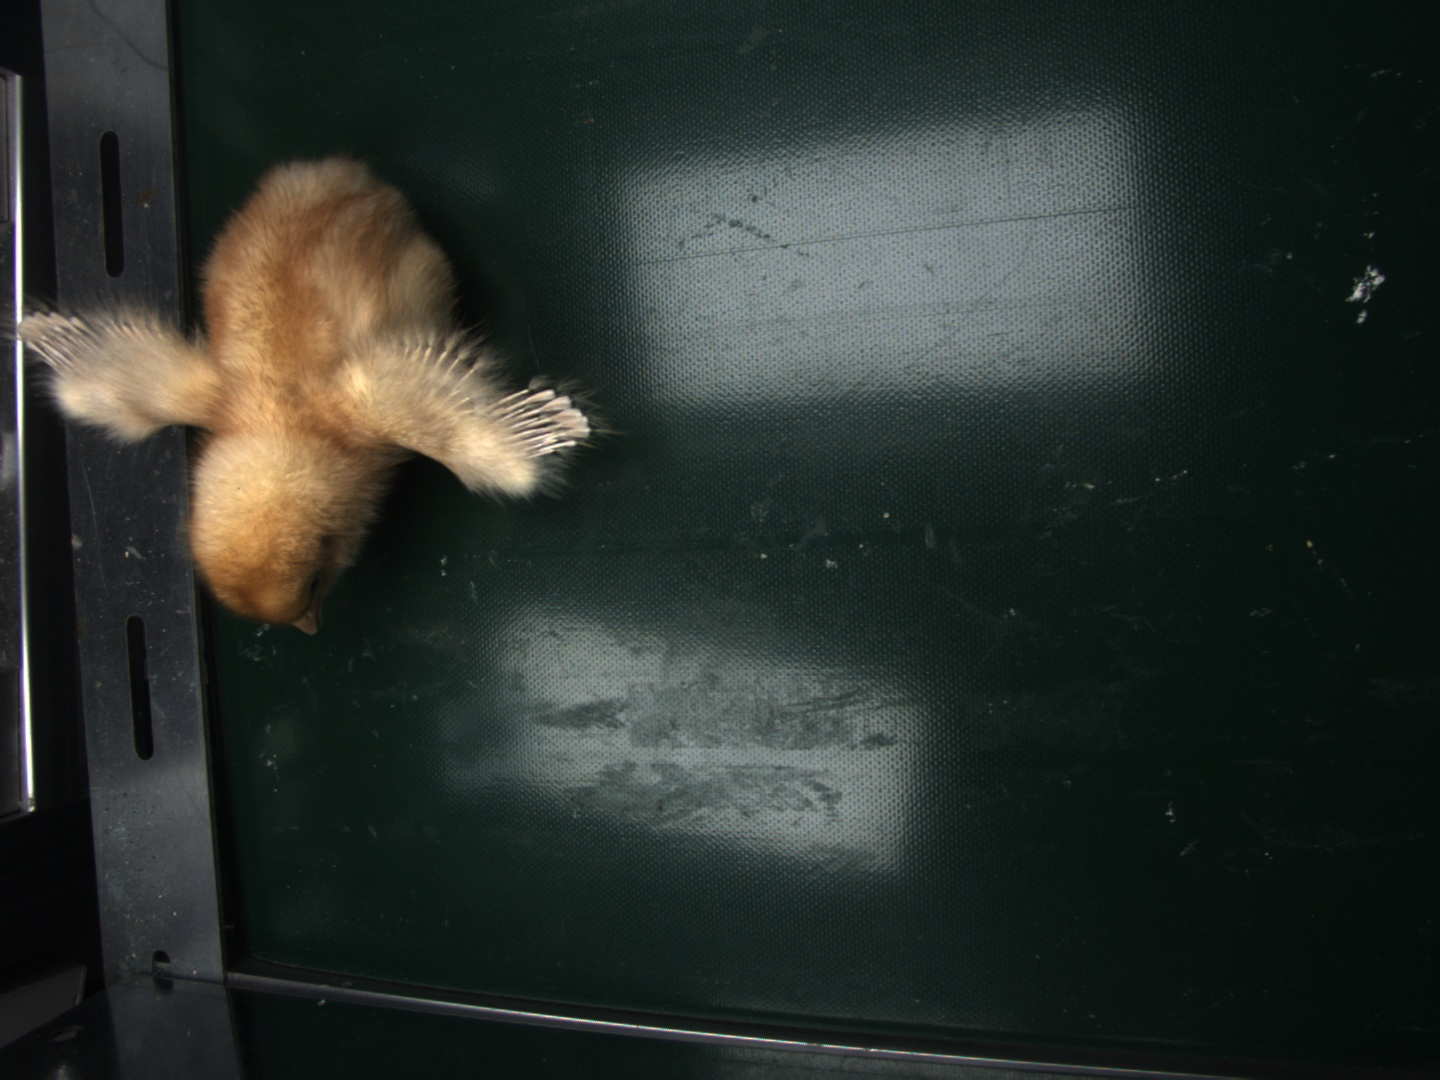female: (495, 387, 588, 459)
